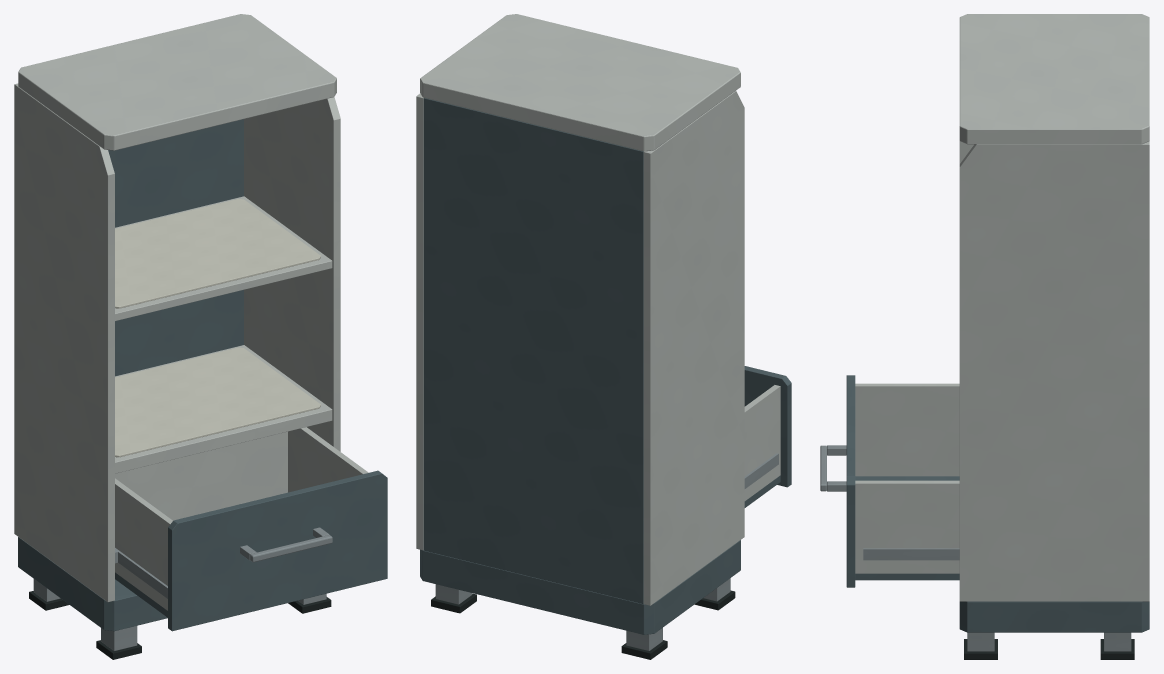
File: AST-CRW-003_open.glb
3 views of the same model, side by side, from view 1: azimuth 30°, elevation 25°; view 2: azimuth 150°, elevation 25°; view 3: azimuth 270°, elevation 25° (orthographic).
Parts seen in each view (by area): view 1: AST-CRW-003__static__staff_white_paint, AST-CRW-003__static__staff_label, AST-CRW-003__drawer__staff_bluegrey_paint, AST-CRW-003__static__staff_bluegrey_paint, AST-CRW-003__drawer__staff_white_paint, AST-CRW-003__drawer__staff_zinc, AST-CRW-003__static__staff_zinc, AST-CRW-003__static__staff_rubber; view 2: AST-CRW-003__static__staff_bluegrey_paint, AST-CRW-003__static__staff_white_paint, AST-CRW-003__drawer__staff_white_paint, AST-CRW-003__drawer__staff_bluegrey_paint, AST-CRW-003__static__staff_zinc, AST-CRW-003__static__staff_rubber; view 3: AST-CRW-003__static__staff_white_paint, AST-CRW-003__drawer__staff_white_paint, AST-CRW-003__static__staff_bluegrey_paint, AST-CRW-003__drawer__staff_bluegrey_paint, AST-CRW-003__drawer__staff_zinc, AST-CRW-003__static__staff_zinc, AST-CRW-003__static__staff_rubber.
Part boxes in pixels (x1,y1,x2,y2): AST-CRW-003__static__staff_white_paint: [14, 14, 340, 602]; AST-CRW-003__static__staff_label: [115, 199, 320, 457]; AST-CRW-003__drawer__staff_bluegrey_paint: [115, 470, 387, 631]; AST-CRW-003__static__staff_bluegrey_paint: [18, 119, 243, 631]; AST-CRW-003__drawer__staff_white_paint: [115, 427, 368, 610]; AST-CRW-003__drawer__staff_zinc: [115, 527, 332, 598]; AST-CRW-003__static__staff_zinc: [33, 550, 326, 650]; AST-CRW-003__static__staff_rubber: [29, 591, 331, 659]; AST-CRW-003__static__staff_bluegrey_paint: [420, 98, 740, 634]; AST-CRW-003__static__staff_white_paint: [416, 14, 744, 605]; AST-CRW-003__drawer__staff_white_paint: [744, 385, 780, 500]; AST-CRW-003__drawer__staff_bluegrey_paint: [744, 366, 791, 507]; AST-CRW-003__static__staff_zinc: [435, 578, 730, 650]; AST-CRW-003__static__staff_rubber: [431, 590, 735, 659]; AST-CRW-003__static__staff_white_paint: [959, 14, 1149, 601]; AST-CRW-003__drawer__staff_white_paint: [855, 383, 959, 573]; AST-CRW-003__static__staff_bluegrey_paint: [959, 601, 1149, 632]; AST-CRW-003__drawer__staff_bluegrey_paint: [846, 375, 959, 587]; AST-CRW-003__drawer__staff_zinc: [820, 445, 959, 560]; AST-CRW-003__static__staff_zinc: [967, 632, 1131, 651]; AST-CRW-003__static__staff_rubber: [964, 639, 1134, 659].
Bounding box in the file's own units: 0.64 × 1.38 × 0.771.
5 materials, 5 textured.
